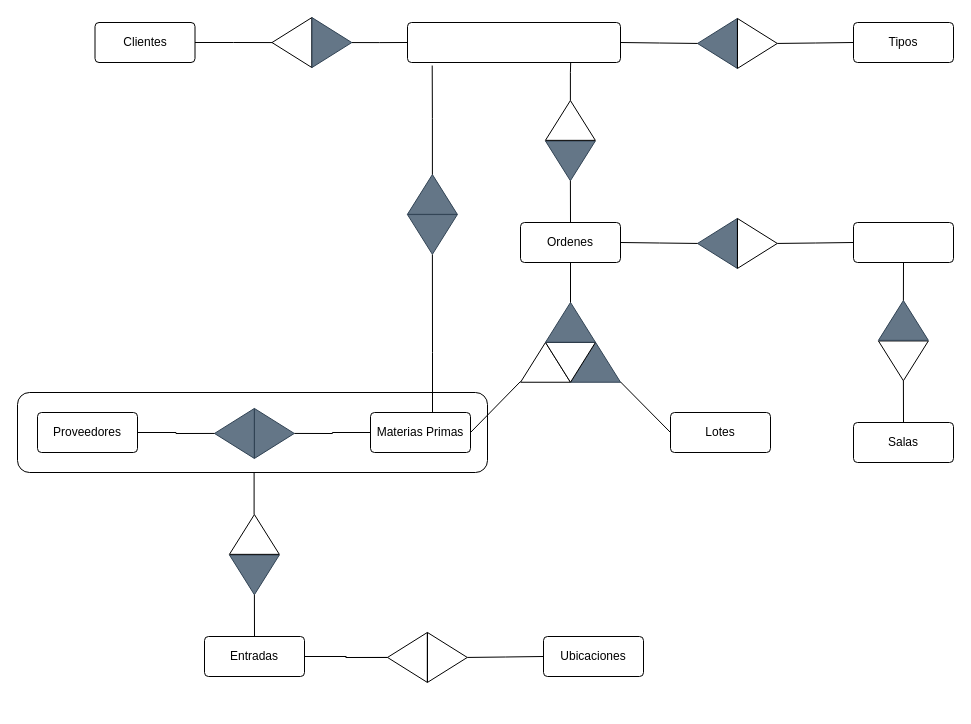
The diagram is 971 pixels wide and 724 high, and some of its shapes have lost their labels. The box of each missing label's shape, as (x1, y1, x2, y2) in pixels:
Cosmeticos: (406, 22, 620, 62)
Equipos: (852, 222, 954, 262)
